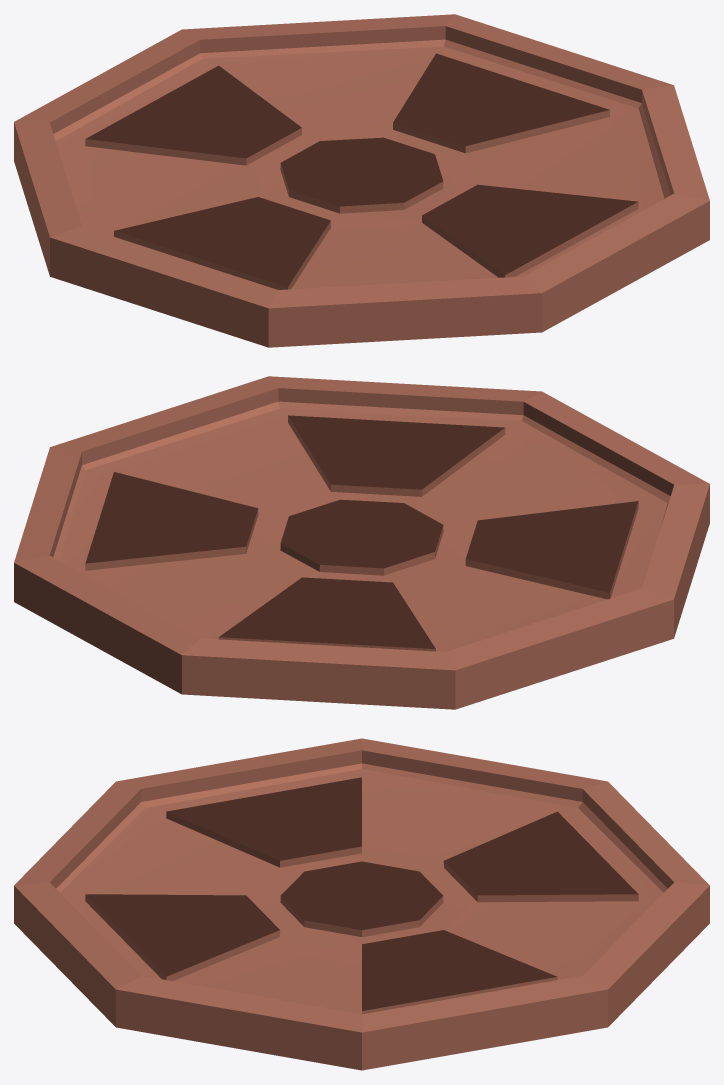
Rendered from Wrath_plate.fbx.
3 renders of one model, top to bottom at view 1: azimuth 30°, elevation 25°; view 2: azimuth 150°, elevation 25°; view 3: azimuth 270°, elevation 25°, orthographic. The views are drawn at different scales.
Visible parts, largest first — view 1: pCylinder5; view 2: pCylinder5; view 3: pCylinder5.
Boxes of the visible parts, x1,y1,x2,y2 form: pCylinder5: (14,14,709,347); pCylinder5: (14,376,709,709); pCylinder5: (14,738,709,1070).
Size of the model in its own units: 6.04 by 0.4379 by 6.04.
